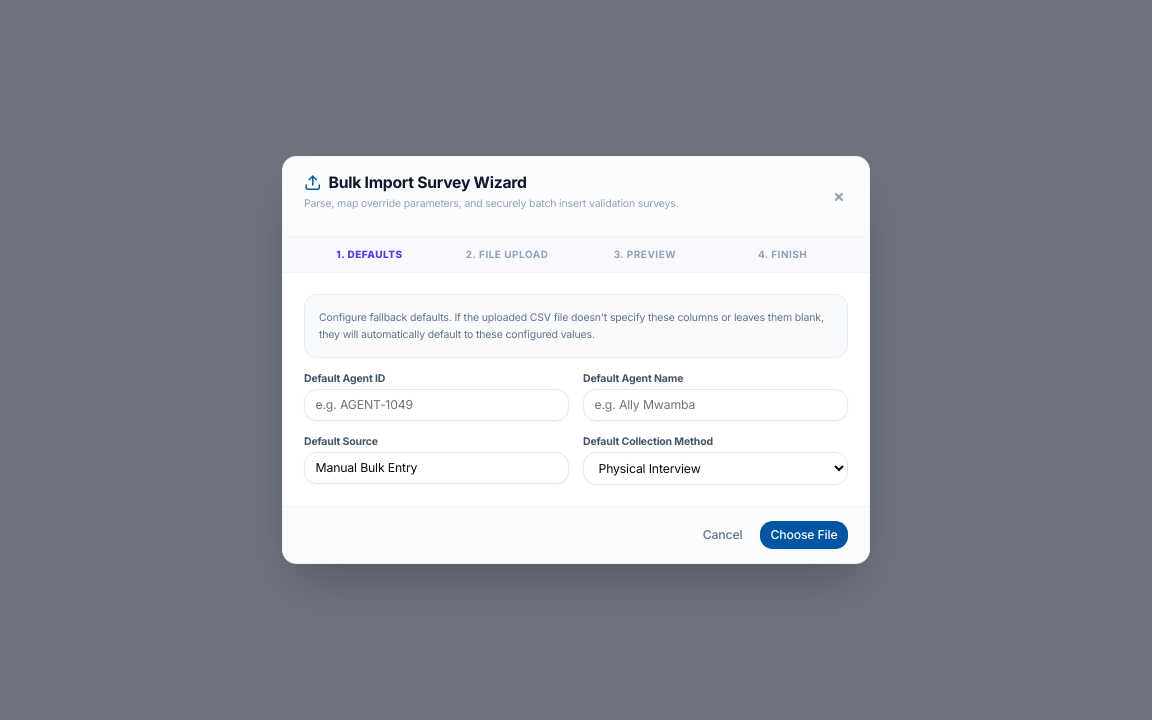
Test: ValidationSurveysImportWizard › step navigation › moves from Defaults to File Upload via Choose File
What coordinates should you click on to do the following:
click the button "Choose File"
I would click on:
 (804, 535)
Its box is [760, 521, 848, 549].
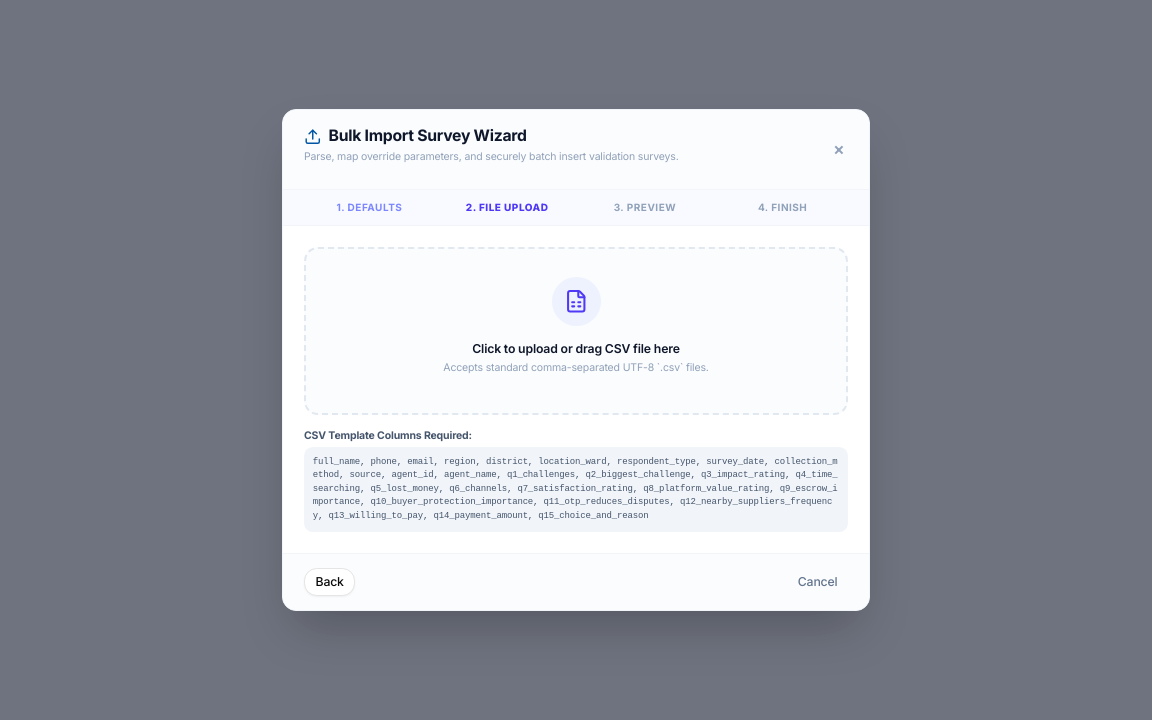
Expected: the heading "Click to upload or drag CSV file here" is shown, [472, 340, 680, 357]
Expected: the button "Back" is shown, [304, 568, 355, 596]
